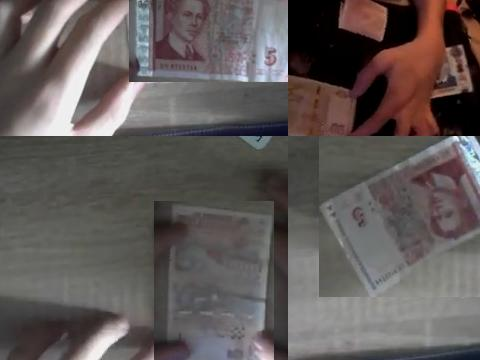5leva: (319, 136, 480, 297), (163, 201, 274, 360), (129, 0, 288, 82)
